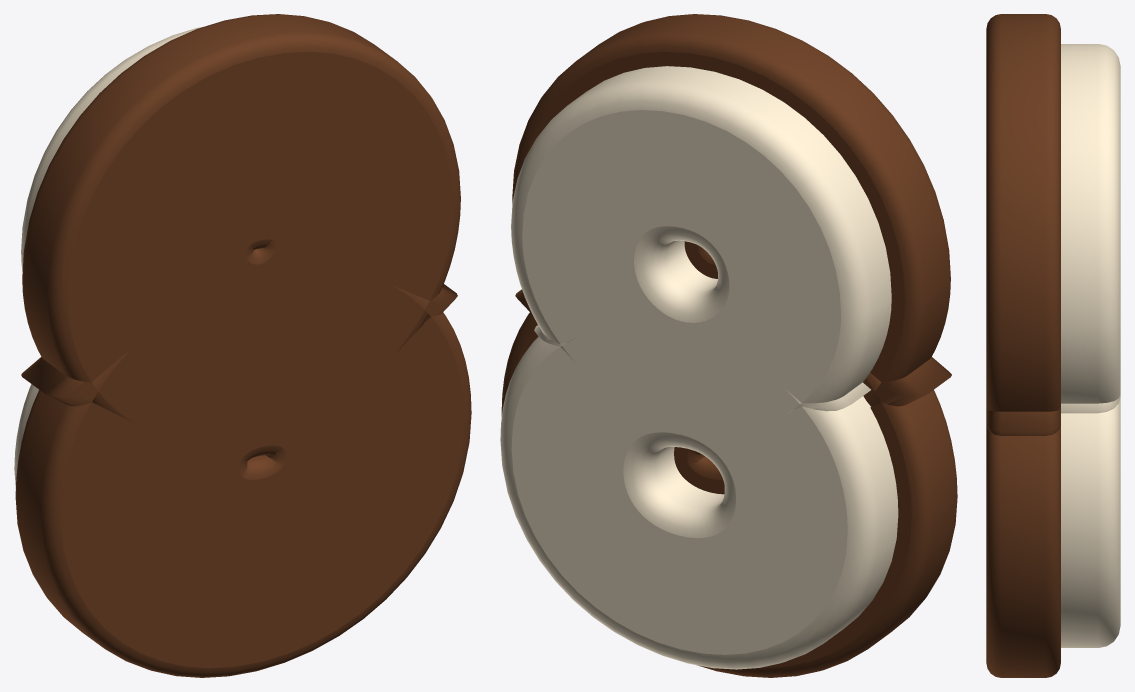
File: Digit_8.fbx
The picture shows the model from 3 angles, left to right: view 1: azimuth 30°, elevation 25°; view 2: azimuth 150°, elevation 25°; view 3: azimuth 270°, elevation 25°; orthographic projection. The views are drawn at different scales.
Visible parts, largest first — view 1: Digit_8; view 2: Digit_8; view 3: Digit_8.
Boxes of the visible parts, bbox=[...] form: Digit_8: bbox=[14, 14, 471, 677]; Digit_8: bbox=[500, 14, 957, 677]; Digit_8: bbox=[986, 14, 1120, 677].
Size of the model in its own units: 0.6463 by 0.9104 by 0.18.
1 material, 1 textured.
